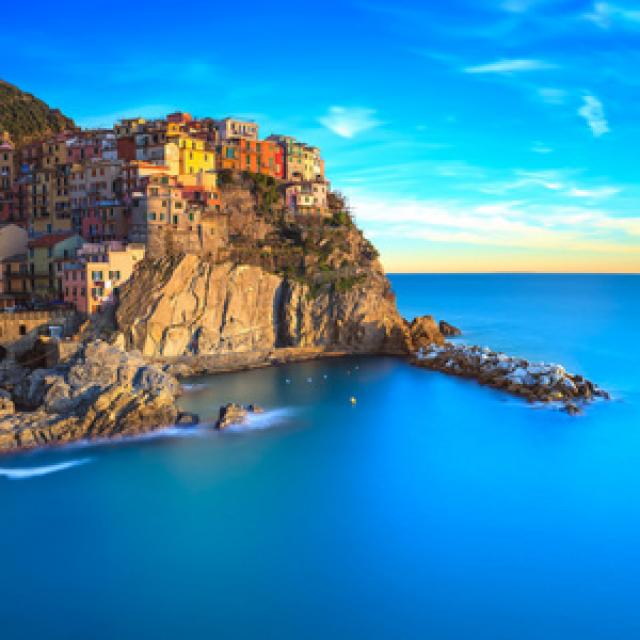reef: (382, 266, 615, 428)
